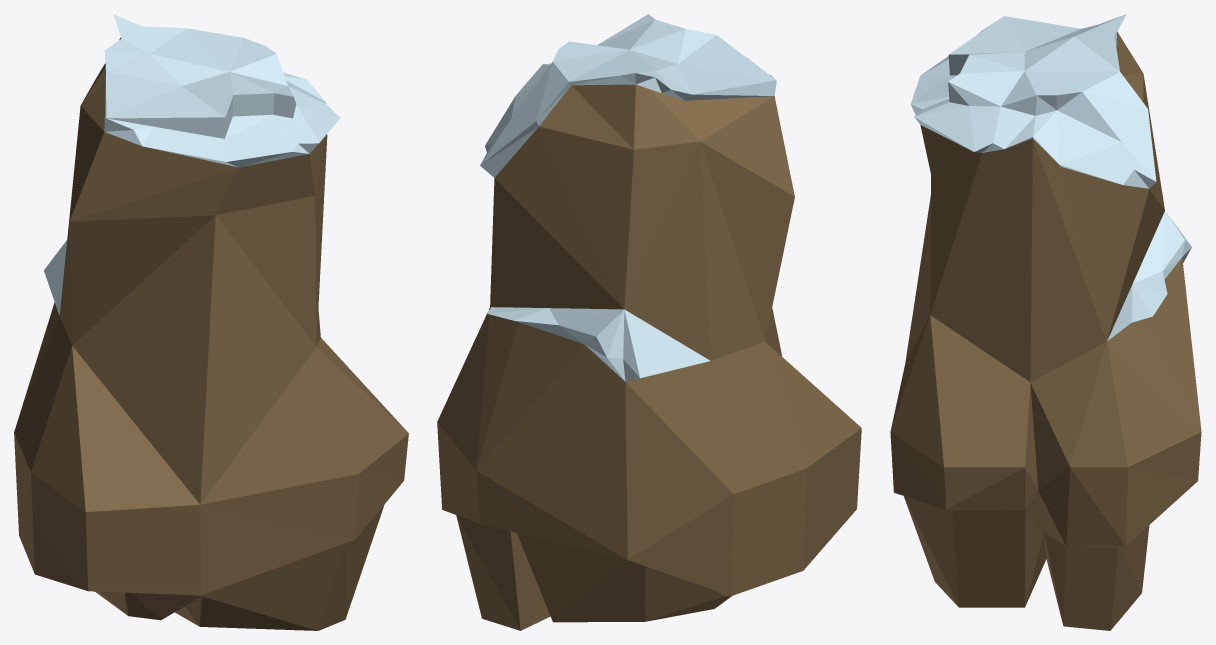
Rendered from adventure_SM_Env_Rock_04_Snow.gltf.
3 views of the same model, side by side, from view 1: azimuth 30°, elevation 25°; view 2: azimuth 150°, elevation 25°; view 3: azimuth 270°, elevation 25° (orthographic). The views are drawn at different scales.
Visible parts, largest first — view 1: SM_Env_Rock_04_Snow; view 2: SM_Env_Rock_04_Snow; view 3: SM_Env_Rock_04_Snow.
Part boxes in pixels (left/top/right/bottom): SM_Env_Rock_04_Snow: left=14, top=14, right=408, bottom=630; SM_Env_Rock_04_Snow: left=437, top=14, right=861, bottom=630; SM_Env_Rock_04_Snow: left=890, top=14, right=1201, bottom=630.
Size of the model in its own units: 1.21 by 2.1 by 1.09.
1 material, 1 textured.
